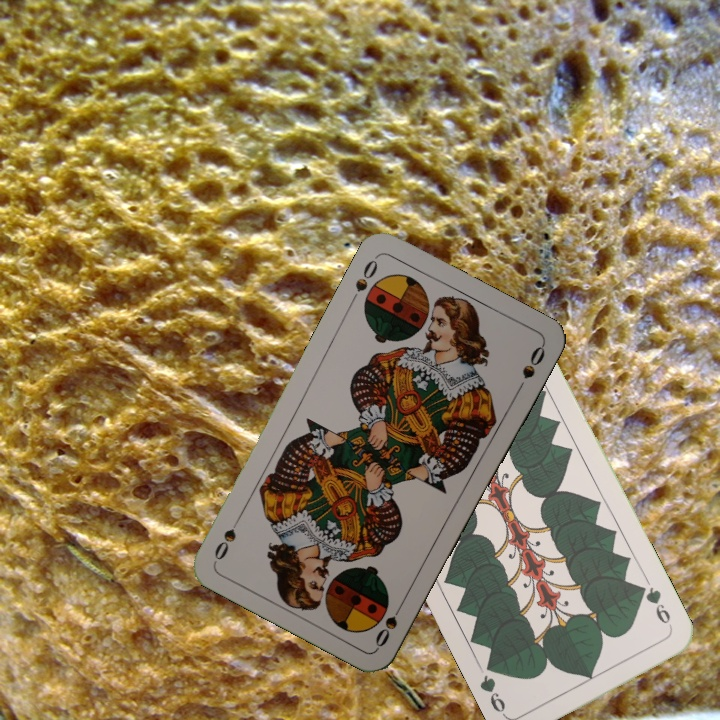G9: (634, 581, 675, 632)
SO: (371, 596, 408, 650), (346, 253, 381, 307)
